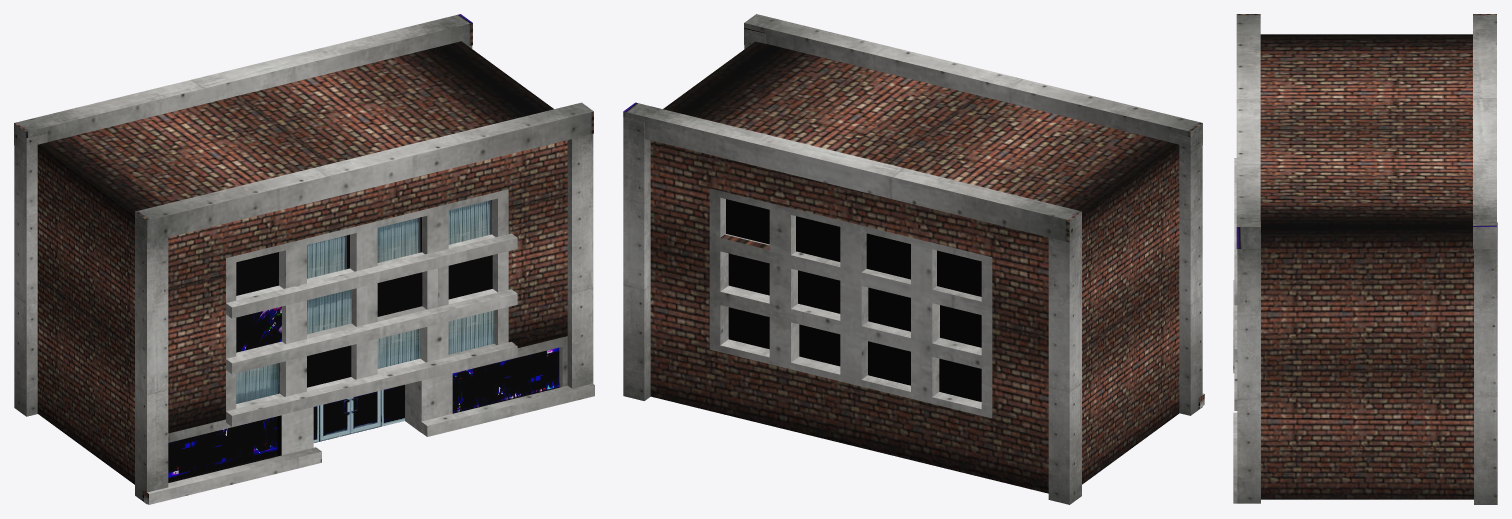
The model's file is Building2.glb.
The picture shows the model from 3 angles, left to right: view 1: azimuth 30°, elevation 25°; view 2: azimuth 150°, elevation 25°; view 3: azimuth 270°, elevation 25°; orthographic projection. The views are drawn at different scales.
Parts seen in each view (by area): view 1: Cube.011; view 2: Cube.011; view 3: Cube.011.
Part boxes in pixels (left/top/right/bottom): Cube.011: left=14, top=14, right=594, bottom=504; Cube.011: left=623, top=14, right=1204, bottom=504; Cube.011: left=1233, top=14, right=1497, bottom=504.
Size of the model in its own units: 21.07 by 12.83 by 11.05.
Materials: 1 (1 with a texture image).
